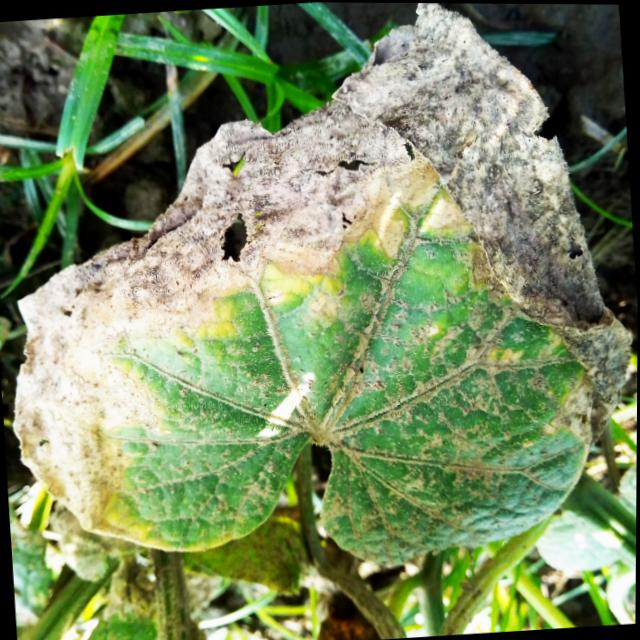Gummy-Stem-Blight: (12, 3, 636, 541)
